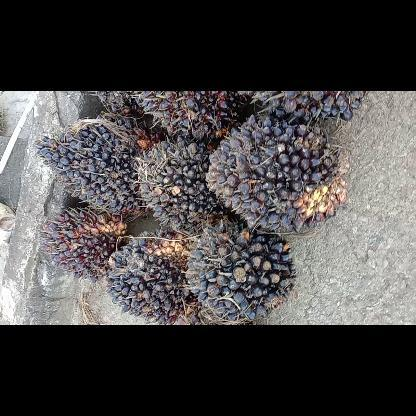TBS mentah: (206, 111, 350, 233), (27, 112, 154, 218), (187, 221, 303, 320), (105, 224, 202, 324), (132, 138, 226, 234), (38, 206, 132, 284), (129, 91, 250, 143)
